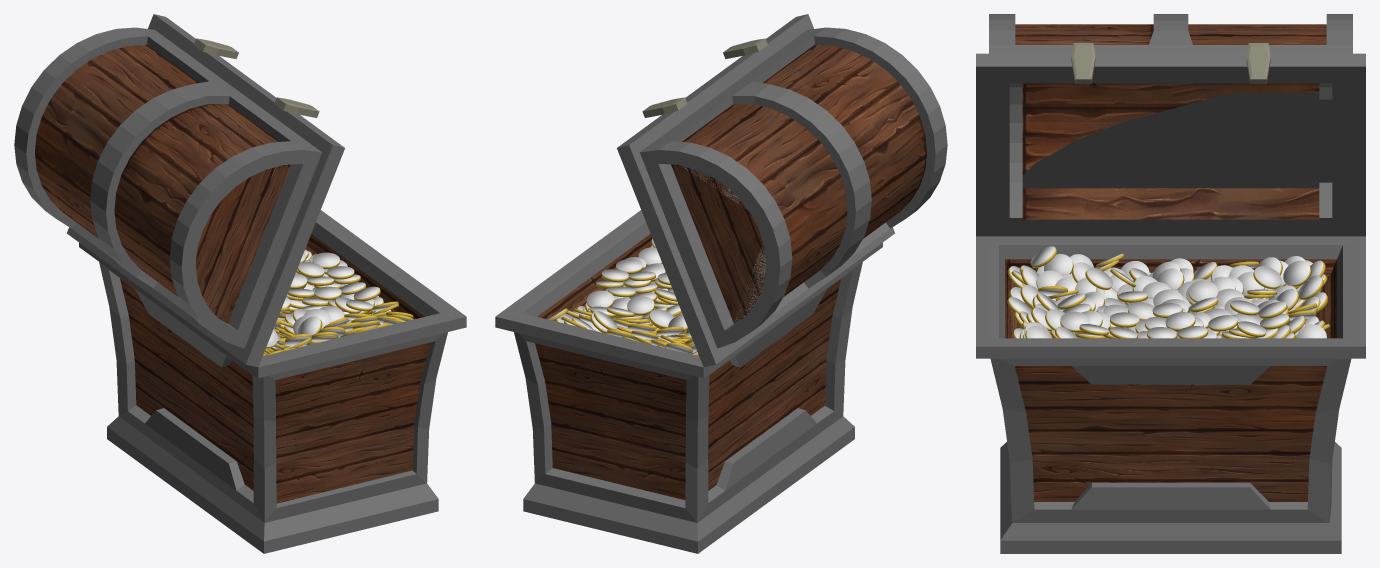
Rendered from Chest.fbx.
3 renders of one model, left to right at view 1: azimuth 30°, elevation 25°; view 2: azimuth 150°, elevation 25°; view 3: azimuth 270°, elevation 25°, orthographic. The views are drawn at different scales.
Parts seen in each view (by area): view 1: Cylinder, Cube, Cube.001; view 2: Cylinder, Cube, Cube.001; view 3: Cube, Cylinder, Cube.001, coins.237, coins.350, coins.332.
Part boxes in pixels (bbox=[...]): Cylinder: bbox=[14, 14, 344, 367]; Cube: bbox=[79, 210, 466, 553]; Cube.001: bbox=[194, 38, 319, 117]; Cylinder: bbox=[617, 14, 947, 367]; Cube: bbox=[495, 210, 882, 553]; Cube.001: bbox=[642, 38, 767, 117]; Cube: bbox=[976, 236, 1365, 553]; Cylinder: bbox=[976, 14, 1365, 236]; Cube.001: bbox=[1071, 43, 1270, 84]; coins.237: bbox=[1283, 260, 1311, 286]; coins.350: bbox=[1253, 266, 1281, 289]; coins.332: bbox=[1188, 280, 1217, 302].
Size of the model in its own units: 147 by 207 by 164.
